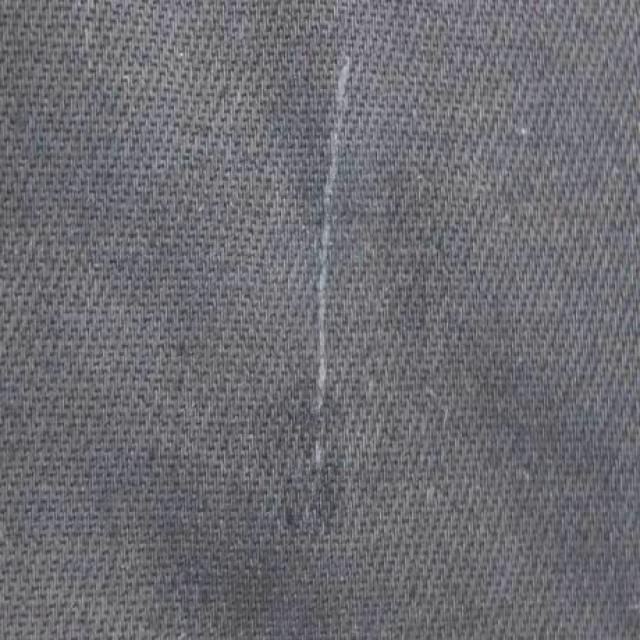Thread_other: (200, 34, 462, 551)
